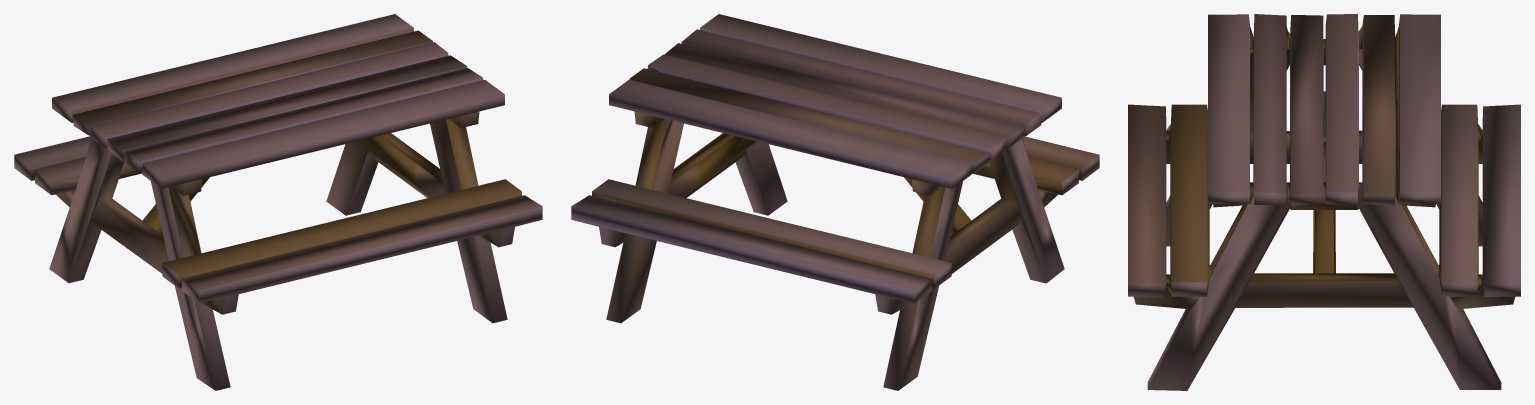
File: model.progressive.glb
The picture shows the model from 3 angles, left to right: view 1: azimuth 30°, elevation 25°; view 2: azimuth 150°, elevation 25°; view 3: azimuth 270°, elevation 25°; orthographic projection. The views are drawn at different scales.
Parts seen in each view (by area): view 1: material; view 2: material; view 3: material.
Boxes of the visible parts, x1=… form: material: x1=14, y1=14, x2=542, y2=390; material: x1=571, y1=14, x2=1099, y2=390; material: x1=1128, y1=14, x2=1520, y2=390.
Size of the model in its own units: 1.9 by 1.05 by 1.76.
1 material, 1 textured.
